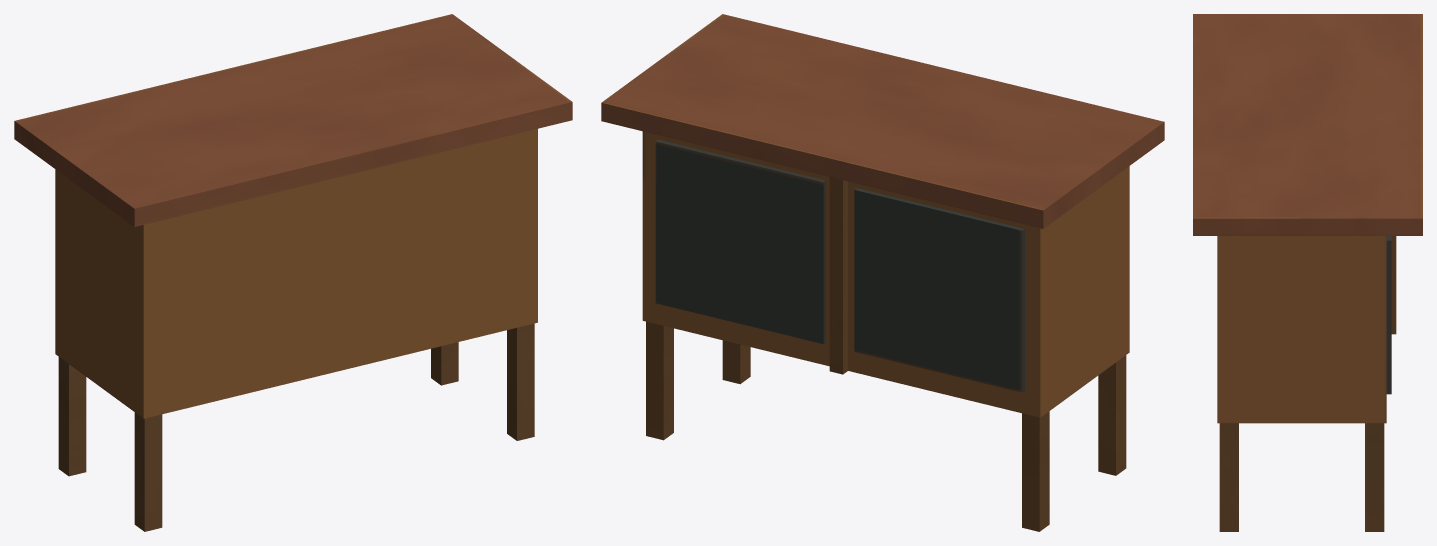
Rendered from kralikarna_99914b93.glb.
3 renders of one model, left to right at view 1: azimuth 30°, elevation 25°; view 2: azimuth 150°, elevation 25°; view 3: azimuth 270°, elevation 25°, orthographic. The views are drawn at different scales.
Visible parts, largest first — view 1: dum; view 2: dum; view 3: dum.
Part boxes in pixels (<box>): dum: <box>14,14,572,531</box>; dum: <box>601,14,1164,531</box>; dum: <box>1193,14,1422,531</box>.
Size of the model in its own units: 1.99 by 1.48 by 0.9476.
1 material, 1 textured.
